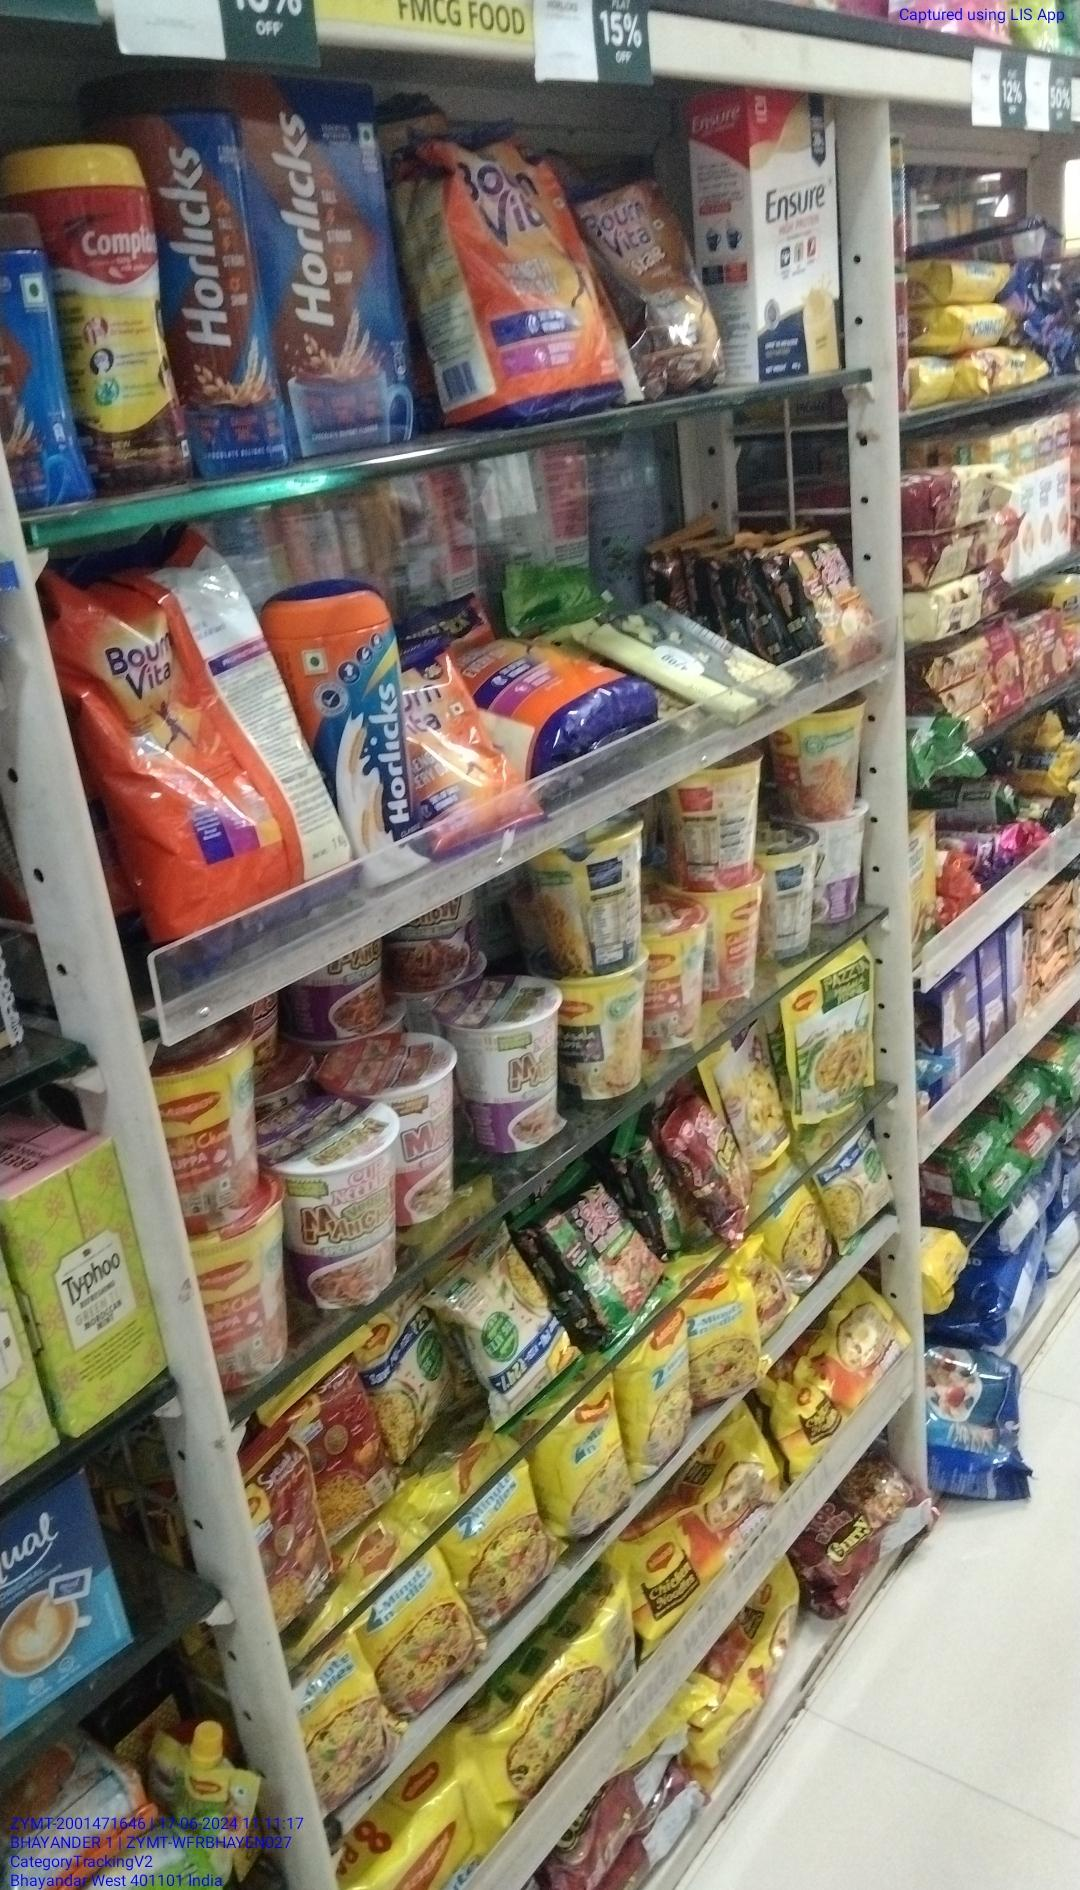COMPLAN_CHOCOLATE_500_GMS_JAR: (44, 136, 161, 498)
HORLICK_CHOCOLATE_1_KG_JAR: (161, 66, 283, 480)
HORLICK_CHOCOLATE_500_G_PACK: (286, 70, 410, 454)
